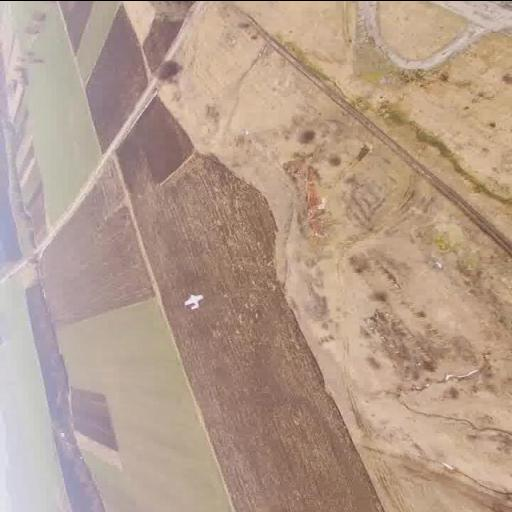uav: (178, 290, 206, 312)
